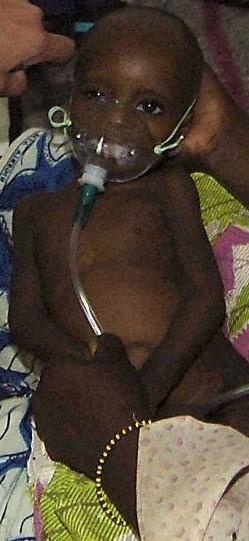Stunting: (73, 27, 229, 233)
